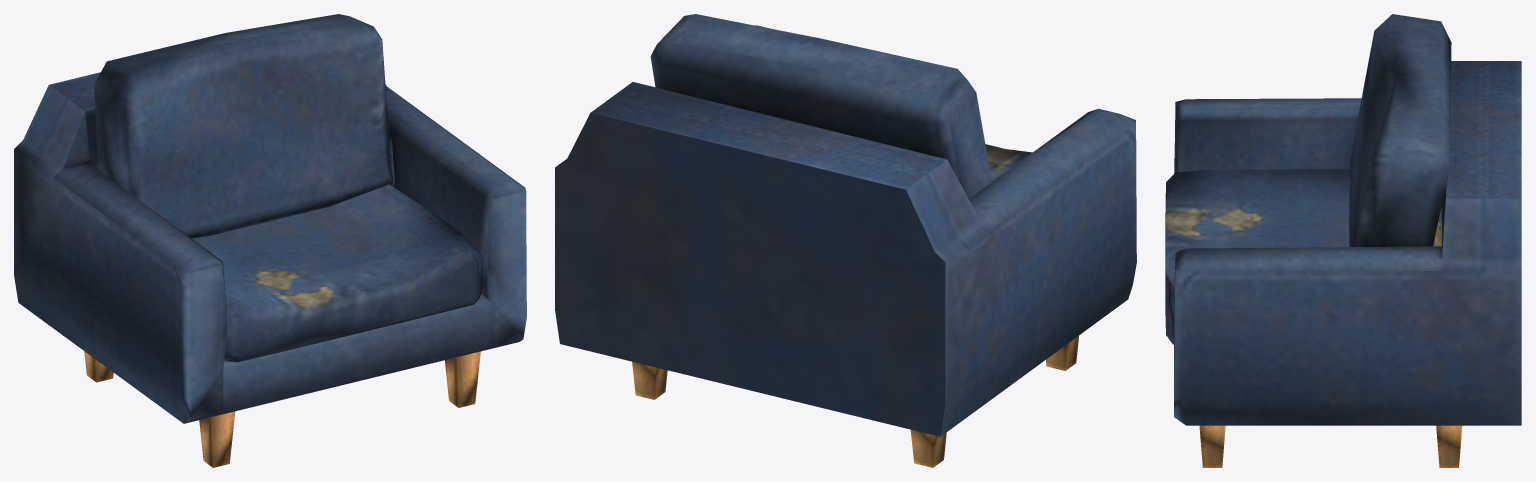
Rendered from Prop_Sofa02.glb.
3 renders of one model, left to right at view 1: azimuth 30°, elevation 25°; view 2: azimuth 150°, elevation 25°; view 3: azimuth 270°, elevation 25°, orthographic. The views are drawn at different scales.
Visible parts, largest first — view 1: xiutz_sofa02; view 2: xiutz_sofa02; view 3: xiutz_sofa02.
Boxes of the visible parts, x1,y1,x2,y2 form: xiutz_sofa02: [14, 14, 526, 467]; xiutz_sofa02: [555, 14, 1136, 467]; xiutz_sofa02: [1165, 14, 1521, 467].
Size of the model in its own units: 2.11 by 1.91 by 1.87.
1 material, 1 textured.
